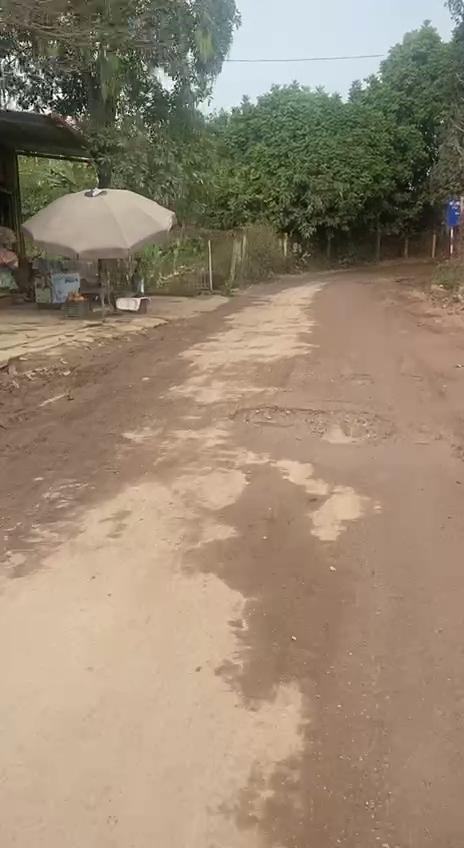pothole: (230, 400, 398, 452), (341, 373, 378, 391)
